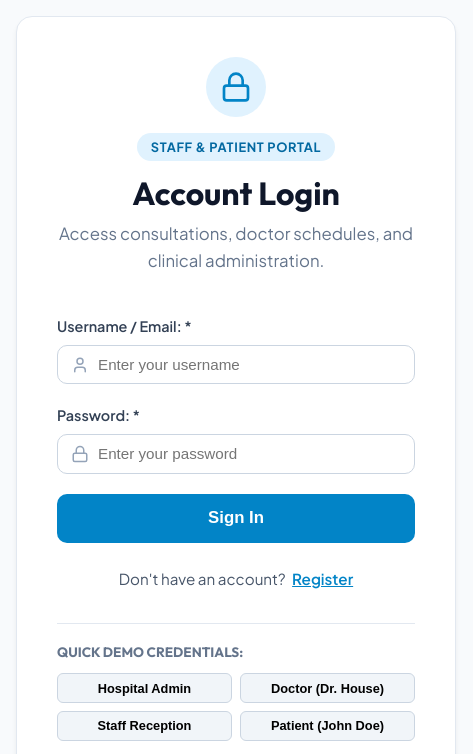
Test: Login & Authentication Flow › quick-fills credentials when clicking demo persona buttons
Click the button "Hospital Admin" at [144, 688], box [57, 673, 232, 703]
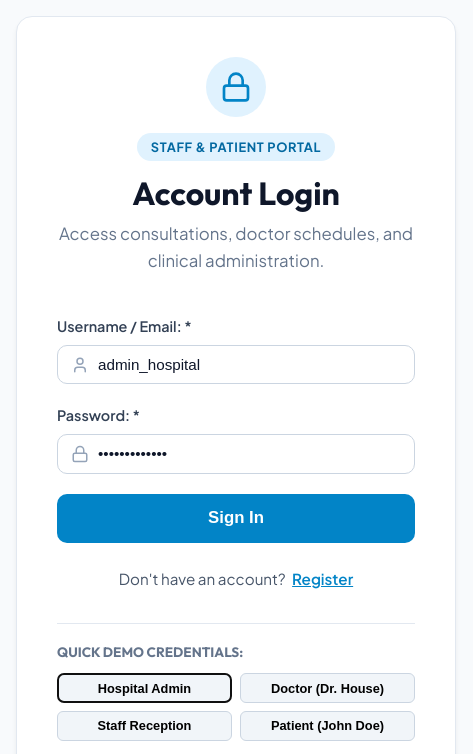
Check: the field with placeholder "Enter your username" holds "admin_hospital", box [57, 345, 415, 384]
Check: the password field with placeholder "Enter your password" holds "AdminPass123!", box [57, 434, 415, 474]
